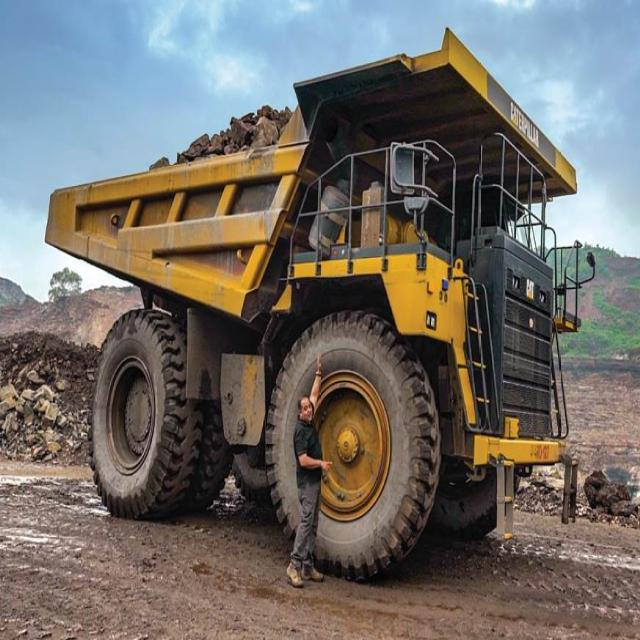dump_truck: (52, 31, 594, 567)
